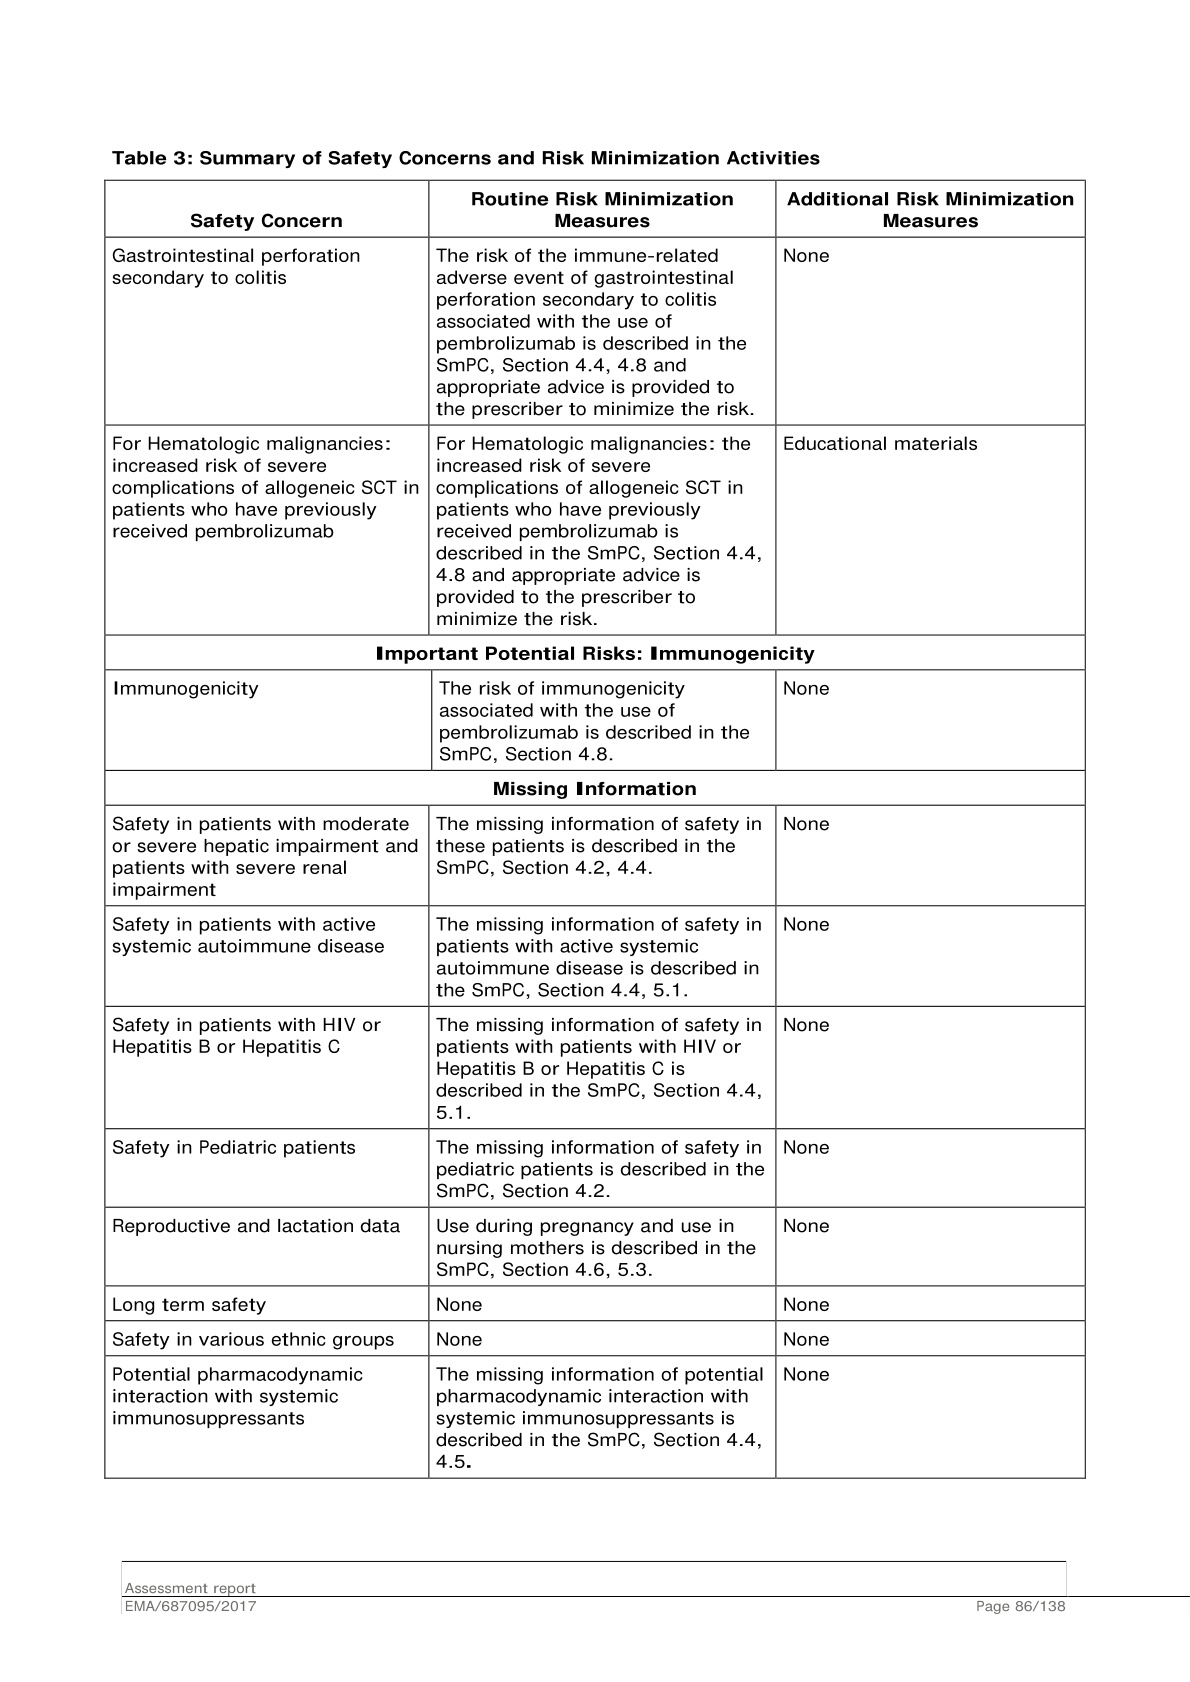merged_cells: (103, 176, 1087, 1479)
